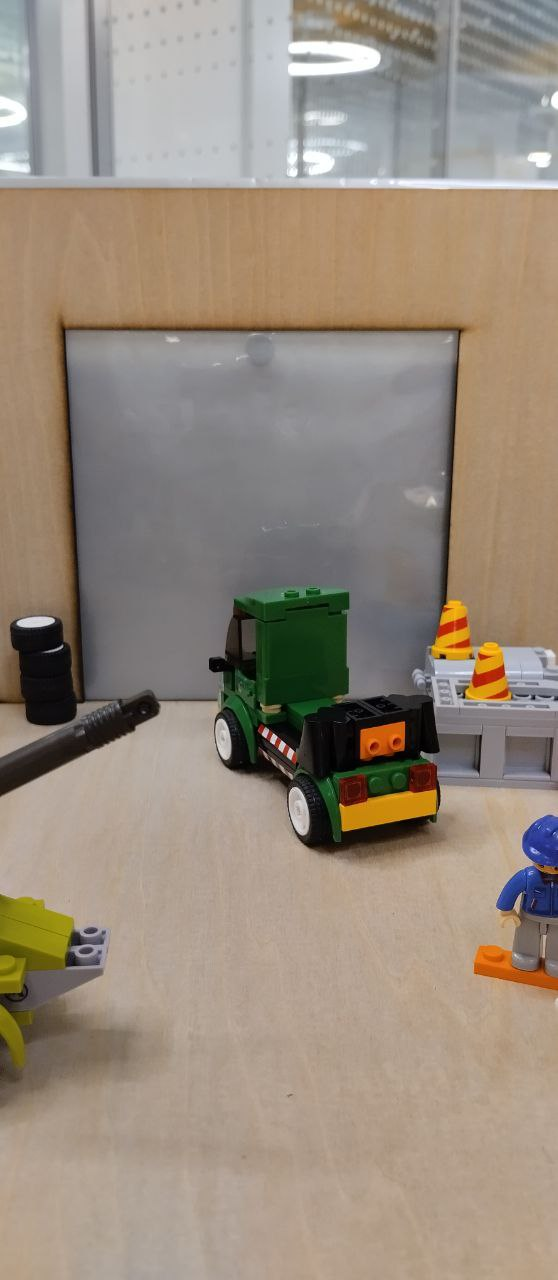Cone: (436, 600, 476, 661), (469, 640, 506, 699)
Object Black: (295, 689, 441, 772)
Truck: (204, 581, 442, 854)
